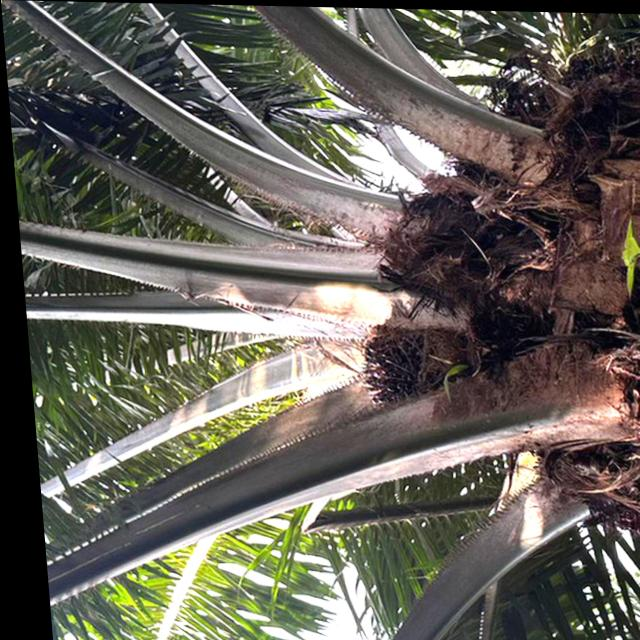almost: (345, 314, 439, 408)
